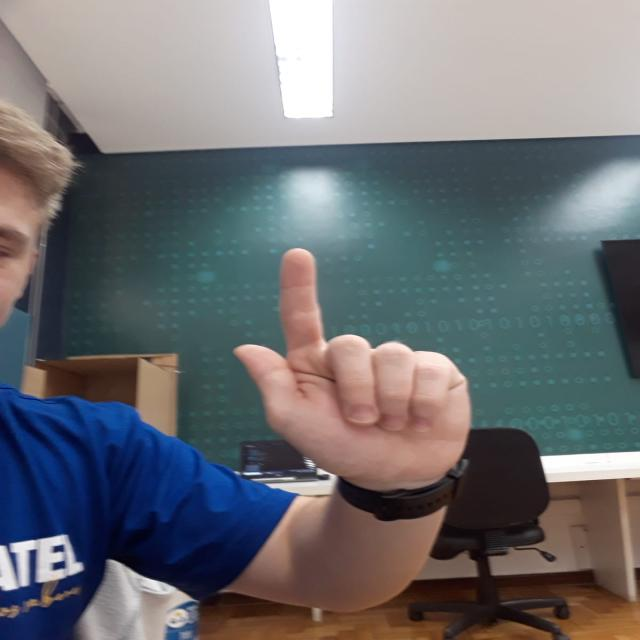G: (232, 234, 477, 474)
